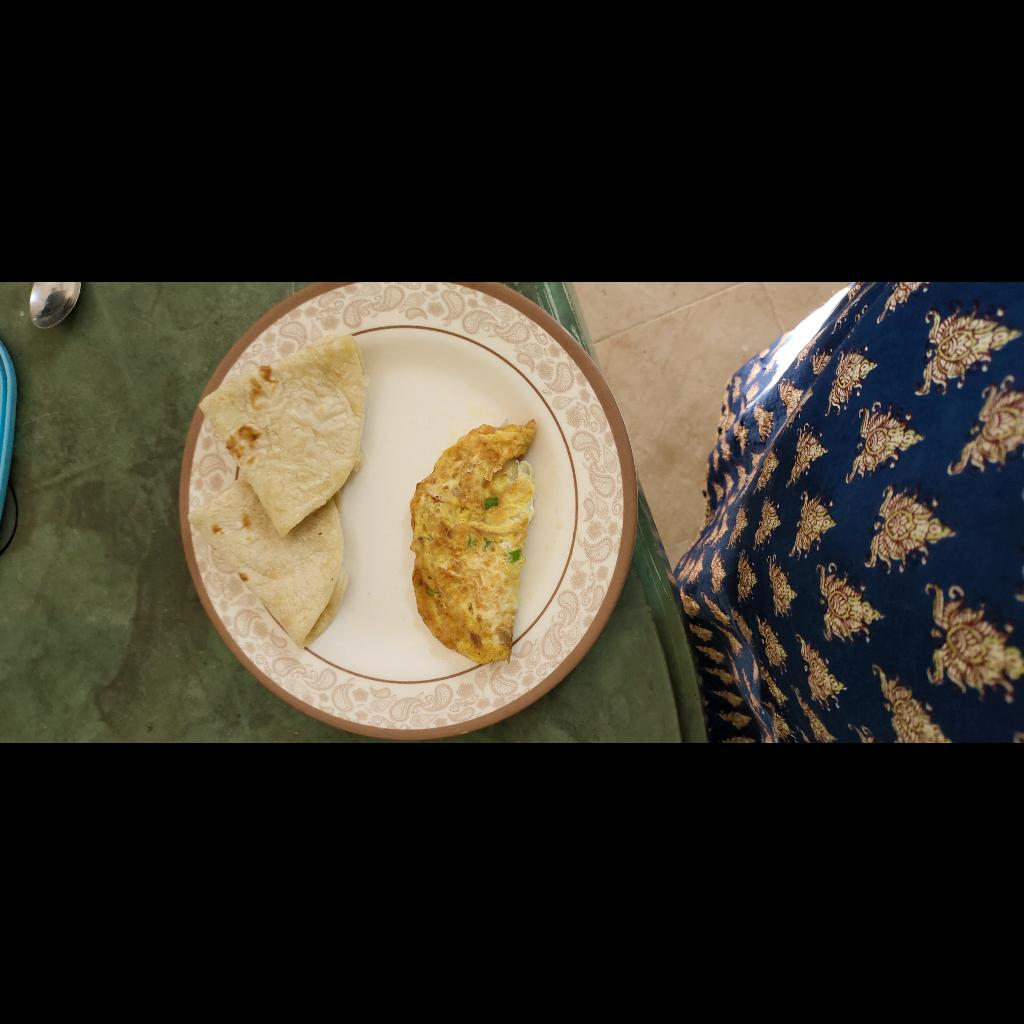egg-poached: (79, 693, 322, 822)
ruti: (91, 467, 413, 650)
